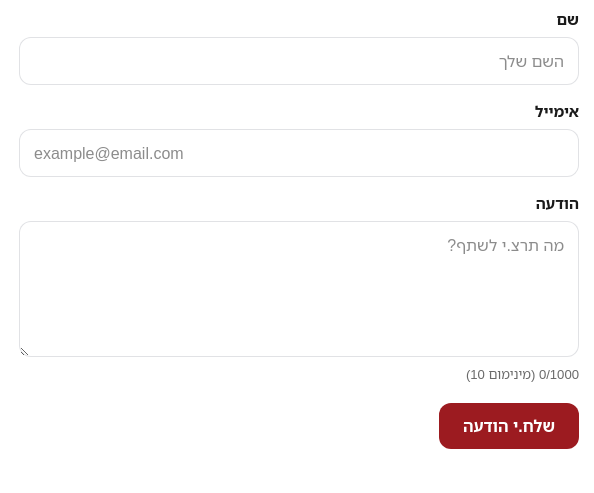
Test: ContactForm › shows validation error for invalid email
This screenshot has width=594, height=493.
Type "יוסי כהן" into the field with placeholder "השם שלך" at (299, 61), box [19,37,579,85]
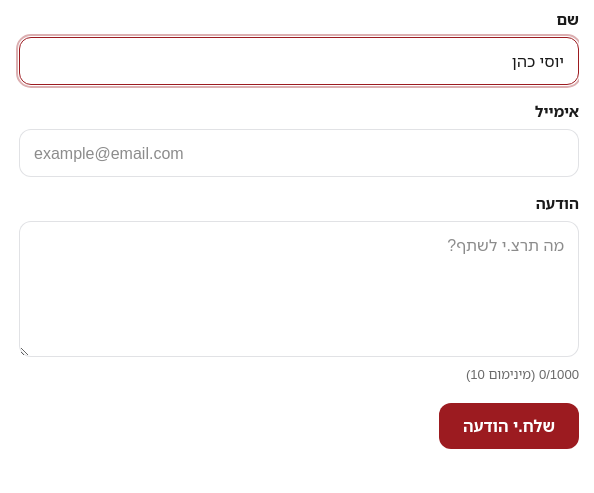
Type "bademail" into the field with placeholder "example@email.com" at (299, 153), box [19,129,579,177]
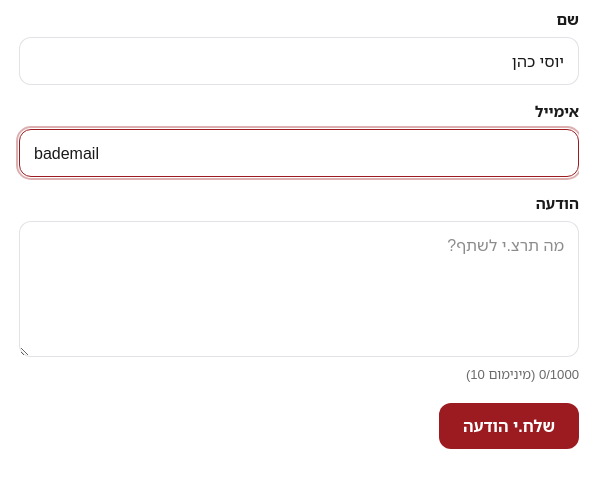
Type "הודעה טובה מאוד מספיק ארוכה" into the text box with placeholder "מה תרצ.י לשתף?" at (299, 289), box [19,221,579,357]
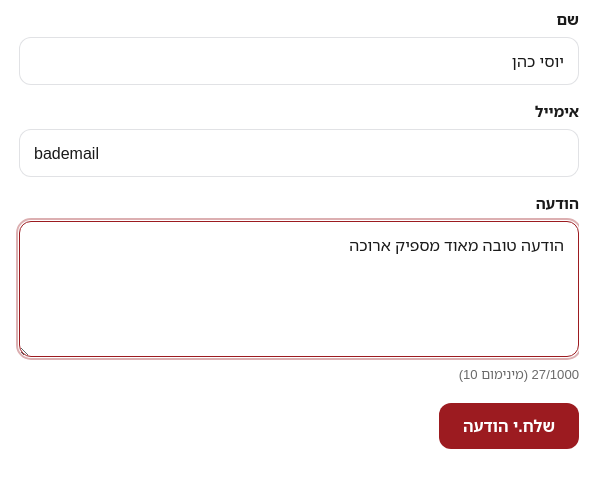
Click the button "שלח.י הודעה" at (509, 426), box [439,403,579,449]
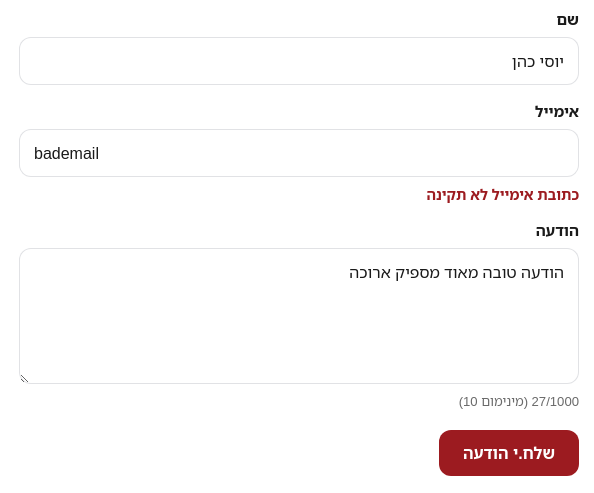
Expected: the text "כתובת אימייל לא תקינה" is shown, [426,185,579,204]
